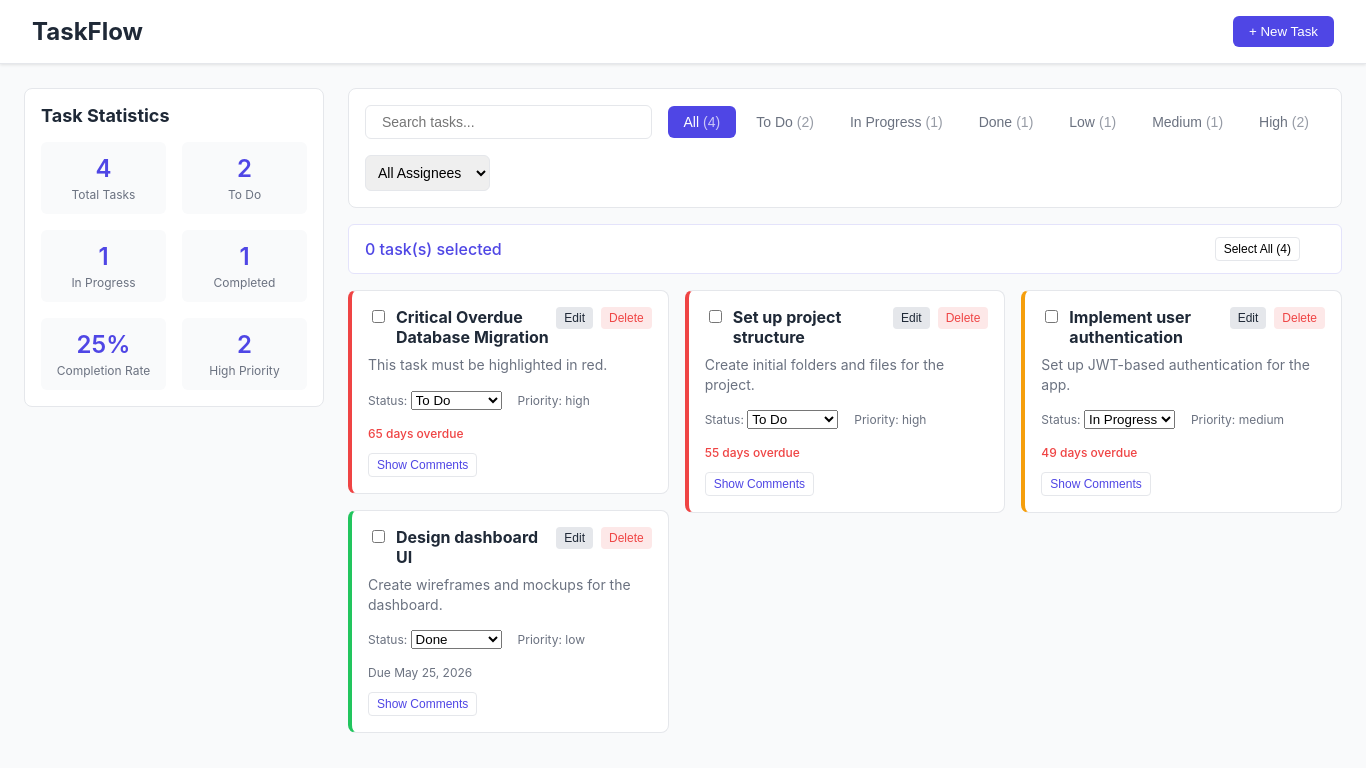
Scenario: TaskFlow Application › Task Creation › should open the task form when clicking create button
Click the button with test id "create-task-button".
click(1284, 32)  # box [1233,16,1334,47]
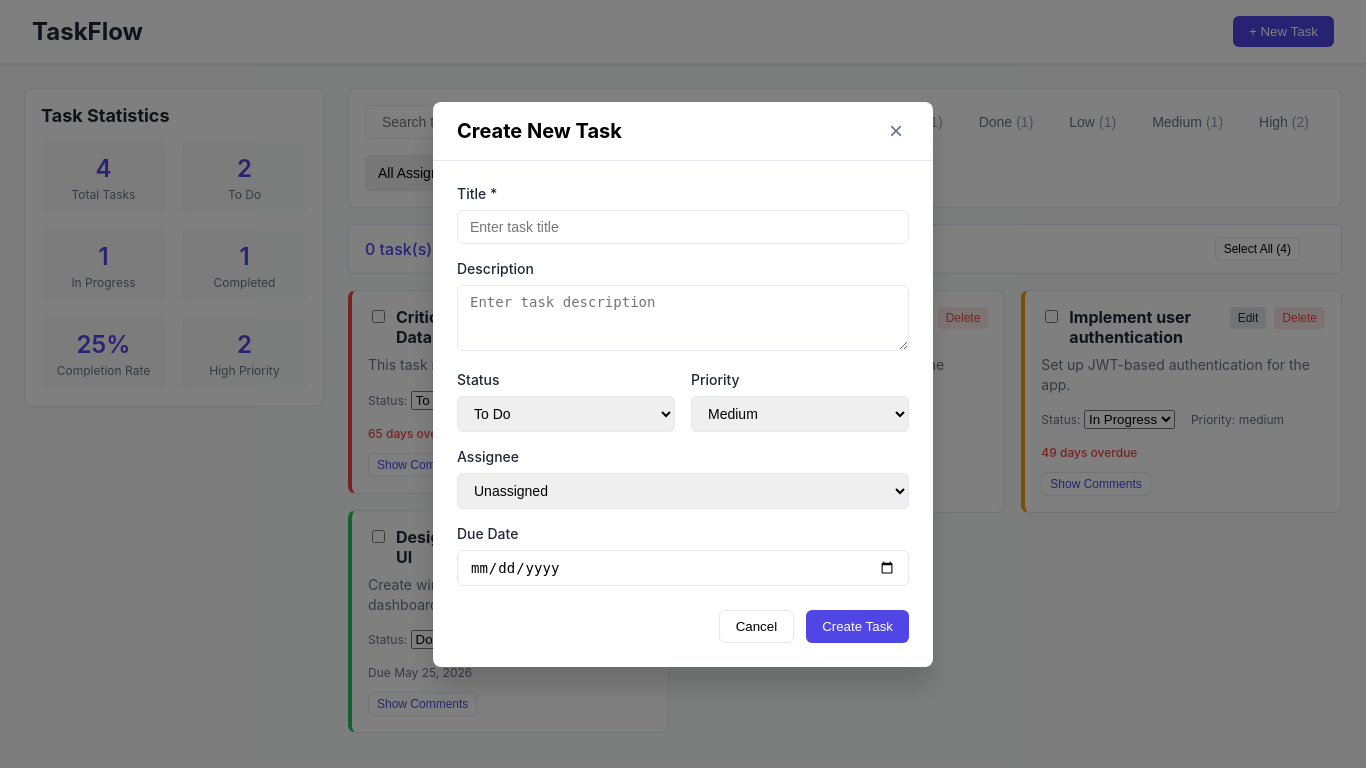
Expected: the dialog with test id "task-form-modal" is shown
